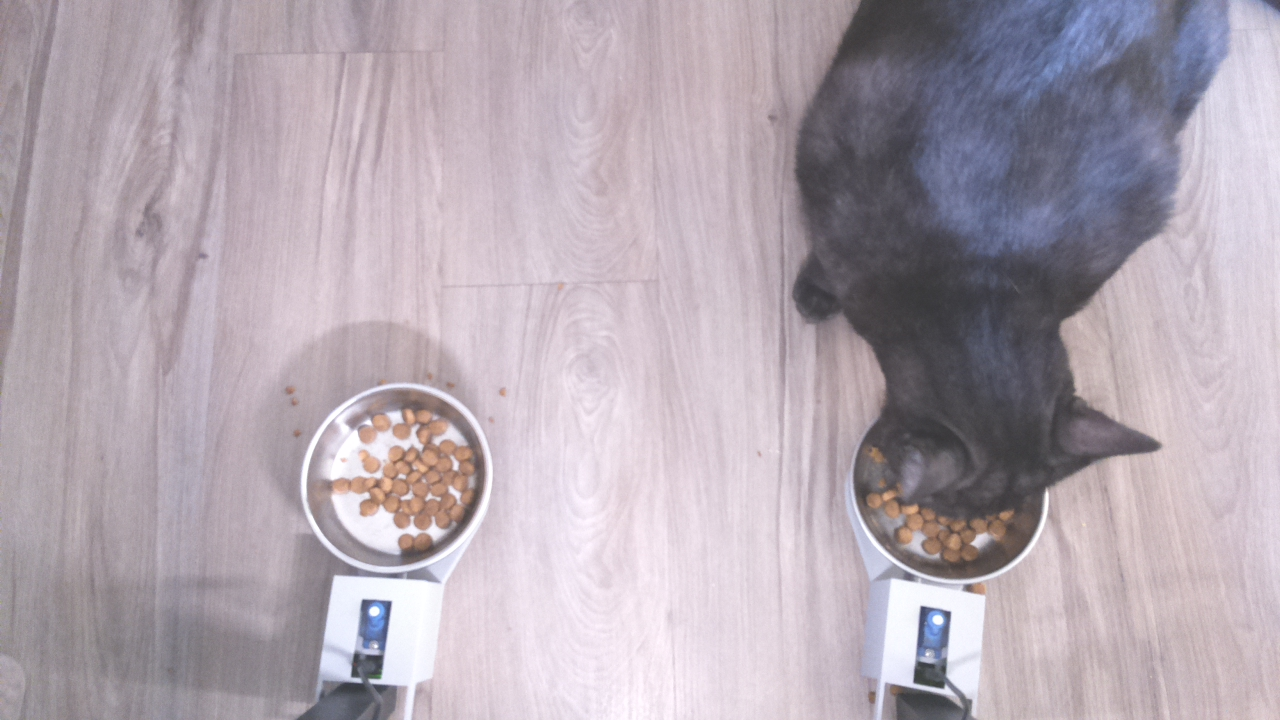open_bowl: (297, 377, 506, 576)
saki_eating: (842, 312, 1173, 583)
